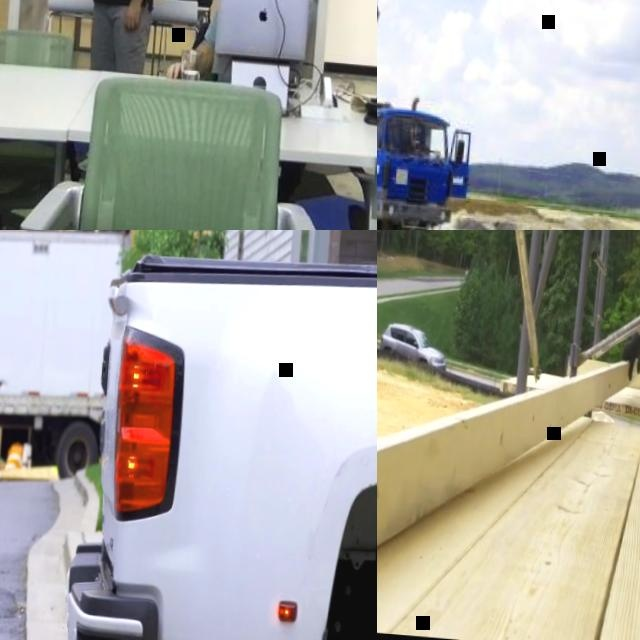Person: (164, 0, 303, 87), (63, 0, 169, 71)
Safety Cone: (6, 443, 25, 473)
machinery: (377, 0, 488, 230)
vehicle: (0, 230, 377, 640), (378, 321, 450, 370)
